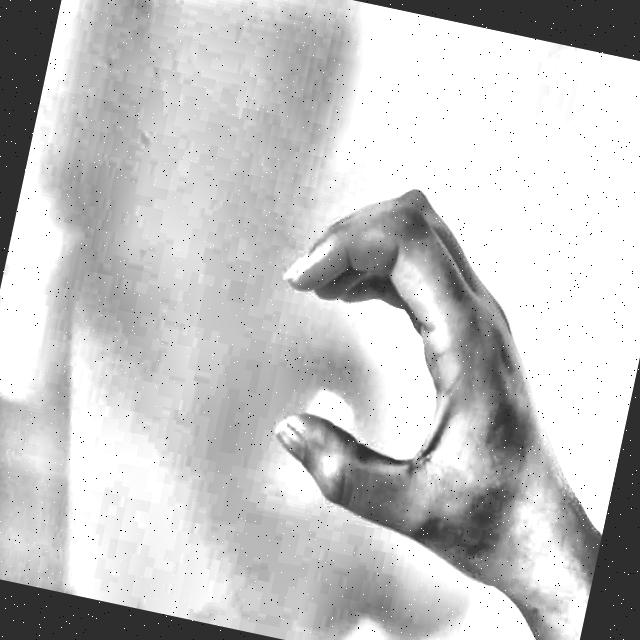A: (210, 136, 582, 610)
